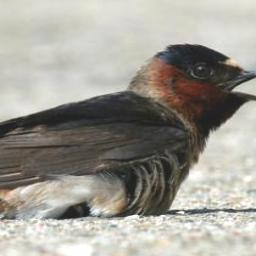Swallow: (1, 42, 256, 222)
